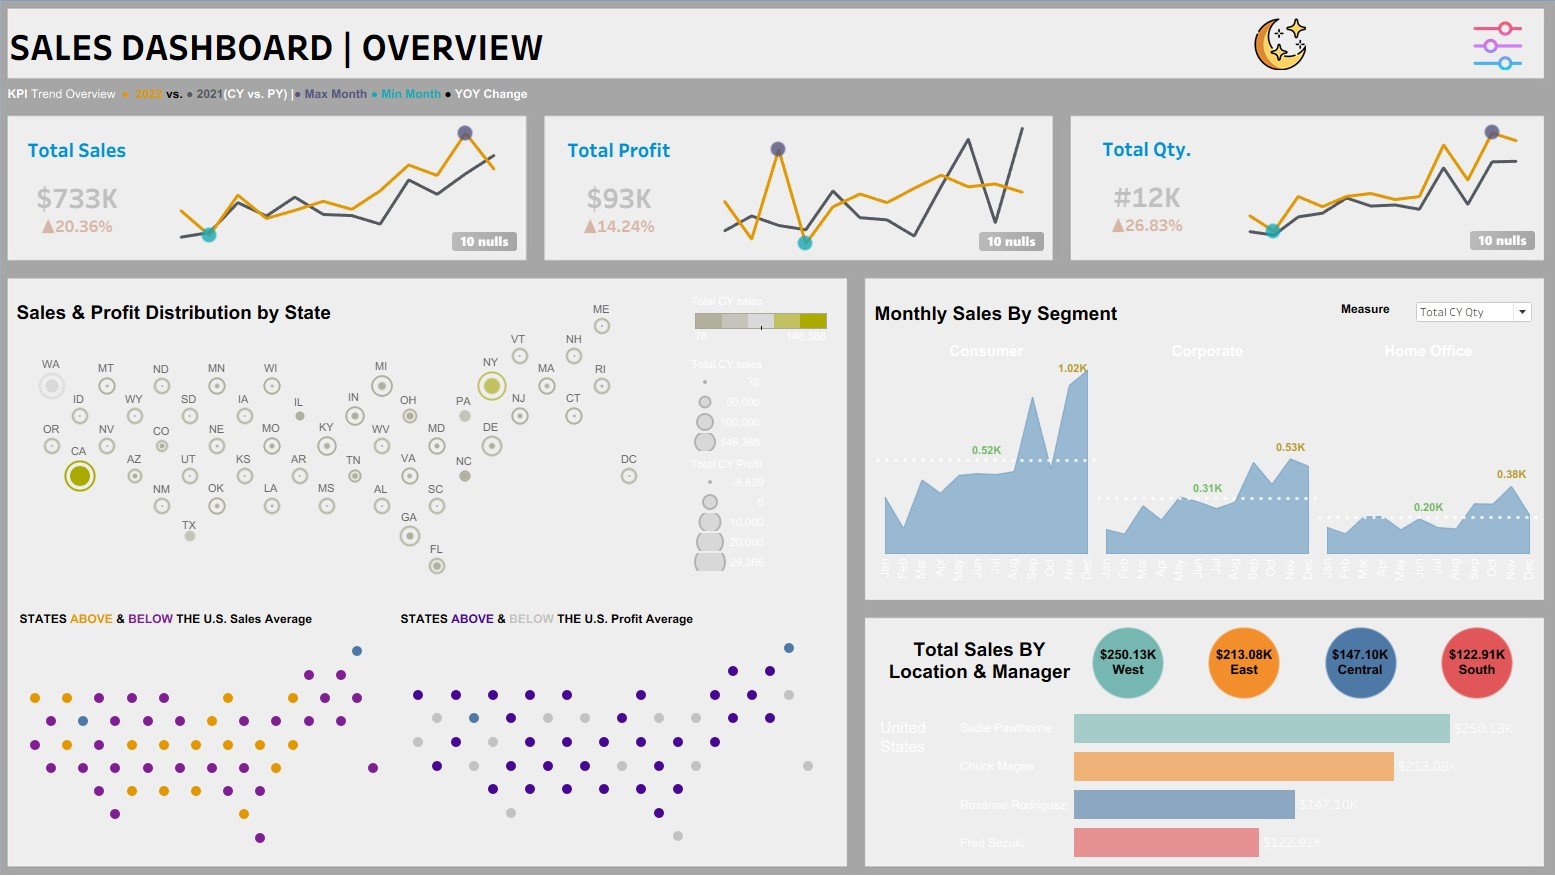

The page's visual inventory and layout, read from the dashboard file:
{"tool":"tableau","page":{"name":"Dashboard Lighter","canvas":[1600,900],"ordinal":1},"visuals":[{"type":"image","param":"D:/TABLEAU PROJECT/SALES PERFORMENCE DASHBOARD/Sales Dashboard White Background.","box":[8,8,1584,884]},{"type":"text","box":[30,21,654,76]},{"type":"dashboard-object","box":[1258,31,91,52]},{"type":"dashboard-object","box":[1494,34,53,49]},{"type":"filter","title":"Sales & Profit","param":"[federated.0lfznhx16vma051abrpg308ufidc].[none:Country/Region:nk]","box":[1337,41,157,52]},{"type":"text","box":[28,92,526,30]},{"type":"filter","title":"Sales & Profit","param":"[federated.0lfznhx16vma051abrpg308ufidc].[none:Region:nk]","box":[1337,93,157,52]},{"type":"worksheet","title":"Sales KPI","mark":"Automatic","box":[29,128,142,145]},{"type":"worksheet","title":"Sales Sparkline","mark":"Automatic","rows":["Calculation_0206987475914764"],"cols":["Order Date"],"box":[171,128,378,145]},{"type":"worksheet","title":"Qty KPI ","mark":"Automatic","box":[1095,128,149,144]},{"type":"worksheet","title":"Qty Sparkeline ","mark":"Automatic","rows":["Min Max Month Profit (copy)_0357895778832385"],"cols":["Order Date"],"box":[1244,128,323,144]},{"type":"worksheet","title":"Profit KPI ","mark":"Automatic","box":[568,129,148,144]},{"type":"worksheet","title":"Profit Sparkeline","mark":"Automatic","rows":["Min Max Month Sales (copy)_0357895776915456"],"cols":["Order Date"],"box":[716,129,360,144]},{"type":"filter","title":"Sales & Profit","param":"[federated.0lfznhx16vma051abrpg308ufidc].[none:Ship Mode:nk]","box":[1337,145,157,52]},{"type":"filter","title":"Sales & Profit","param":"[federated.0lfznhx16vma051abrpg308ufidc].[none:Category:nk]","box":[1337,197,157,52]},{"type":"legend","title":"Sales & Profit","param":"[federated.0lfznhx16vma051abrpg308ufidc].[sum:Total CY Qty (copy)_02069874705408","box":[714,308,140,60]},{"type":"worksheet","title":"Sales & Profit","mark":"Circle","rows":["Row"],"cols":["Column","Column"],"box":[34,309,655,300]},{"type":"text","box":[895,309,274,35]},{"type":"text","box":[37,311,339,30]},{"type":"parameter","param":"[Parameters].[Parameter 1]","box":[1364,312,194,30]},{"type":"worksheet","title":"Monthly Sales by segment","mark":"Area","rows":["Calculation_0963452516282368"],"cols":["Segment","Order Date"],"box":[899,354,663,253]},{"type":"legend","title":"Sales & Profit","param":"[federated.0lfznhx16vma051abrpg308ufidc].[sum:Total CY Qty (copy)_02069874705408","box":[714,371,140,98]},{"type":"legend","title":"Sales & Profit","param":"[federated.0lfznhx16vma051abrpg308ufidc].[sum:Total CY sales (copy)_020698747145","box":[714,471,140,118]},{"type":"text","box":[40,617,298,30]},{"type":"text","box":[421,617,298,30]},{"type":"worksheet","title":"AVG Profit by state ","mark":"Circle","rows":["Row"],"cols":["Column"],"box":[417,637,438,236]},{"type":"worksheet","title":"Region Wise sale","mark":"Circle","cols":["Region"],"box":[1093,637,465,77]},{"type":"text","box":[894,639,217,70]},{"type":"worksheet","title":"AVG sales by state","mark":"Circle","rows":["Row"],"cols":["Column"],"box":[36,641,382,233]},{"type":"worksheet","title":"Total Sales by country & manager","mark":"Automatic","rows":["Country/Region","Regional Manager"],"cols":["Total CY Qty (copy)_0206987470540804"],"box":[897,722,662,153]}]}

Visuals, with their boxes in screenshot pixels (x1, y1, x2, y2), scaled from the page's 1600x900 canvas onto the 1555x876 screenshot:
image: <bbox>8, 8, 1547, 868</bbox>
text: <bbox>29, 20, 665, 94</bbox>
dashboard-object: <bbox>1223, 30, 1311, 81</bbox>
dashboard-object: <bbox>1452, 33, 1503, 81</bbox>
"Sales & Profit" filter: <bbox>1299, 40, 1452, 91</bbox>
text: <bbox>27, 90, 538, 119</bbox>
"Sales & Profit" filter: <bbox>1299, 91, 1452, 141</bbox>
"Sales KPI" worksheet: <bbox>28, 125, 166, 266</bbox>
"Sales Sparkline" worksheet: <bbox>166, 125, 534, 266</bbox>
"Qty KPI " worksheet: <bbox>1064, 125, 1209, 265</bbox>
"Qty Sparkeline " worksheet: <bbox>1209, 125, 1523, 265</bbox>
"Profit KPI " worksheet: <bbox>552, 126, 696, 266</bbox>
"Profit Sparkeline" worksheet: <bbox>696, 126, 1046, 266</bbox>
"Sales & Profit" filter: <bbox>1299, 141, 1452, 192</bbox>
"Sales & Profit" filter: <bbox>1299, 192, 1452, 242</bbox>
"Sales & Profit" legend: <bbox>694, 300, 830, 358</bbox>
"Sales & Profit" worksheet (Circle marks): <bbox>33, 301, 670, 593</bbox>
text: <bbox>870, 301, 1136, 335</bbox>
text: <bbox>36, 303, 365, 332</bbox>
parameter: <bbox>1326, 304, 1514, 333</bbox>
"Monthly Sales by segment" worksheet (Area marks): <bbox>874, 345, 1518, 591</bbox>
"Sales & Profit" legend: <bbox>694, 361, 830, 456</bbox>
"Sales & Profit" legend: <bbox>694, 458, 830, 573</bbox>
text: <bbox>39, 601, 328, 630</bbox>
text: <bbox>409, 601, 699, 630</bbox>
"AVG Profit by state " worksheet (Circle marks): <bbox>405, 620, 831, 850</bbox>
"Region Wise sale" worksheet (Circle marks): <bbox>1062, 620, 1514, 695</bbox>
text: <bbox>869, 622, 1080, 690</bbox>
"AVG sales by state" worksheet (Circle marks): <bbox>35, 624, 406, 851</bbox>
"Total Sales by country & manager" worksheet: <bbox>872, 703, 1515, 852</bbox>
